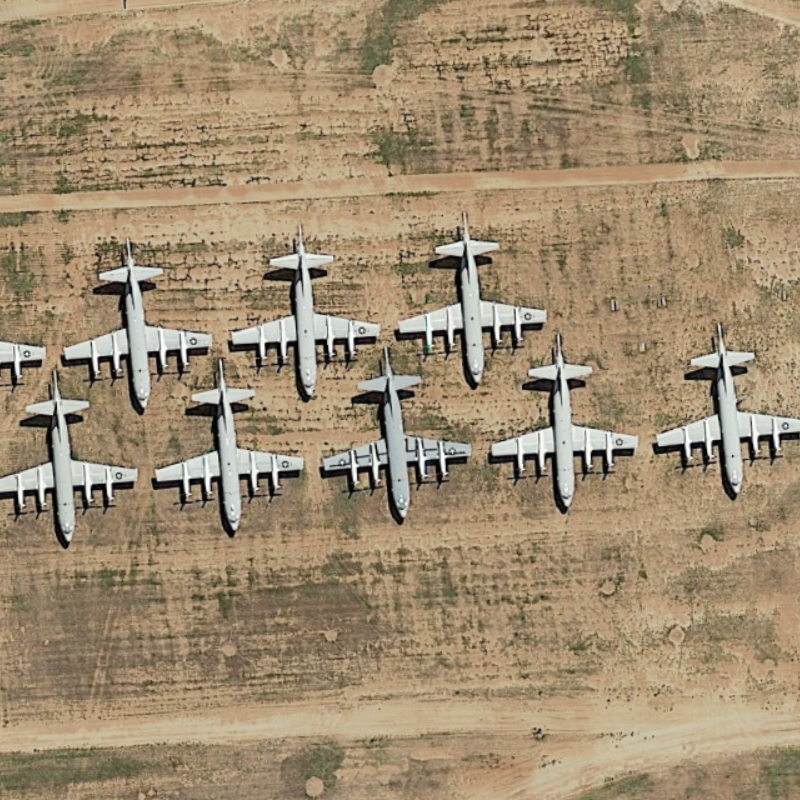A9: (56, 226, 226, 411), (146, 353, 311, 536), (313, 347, 479, 527), (391, 204, 546, 390), (492, 329, 643, 518), (1, 364, 147, 554), (649, 316, 800, 497), (226, 226, 382, 398)
